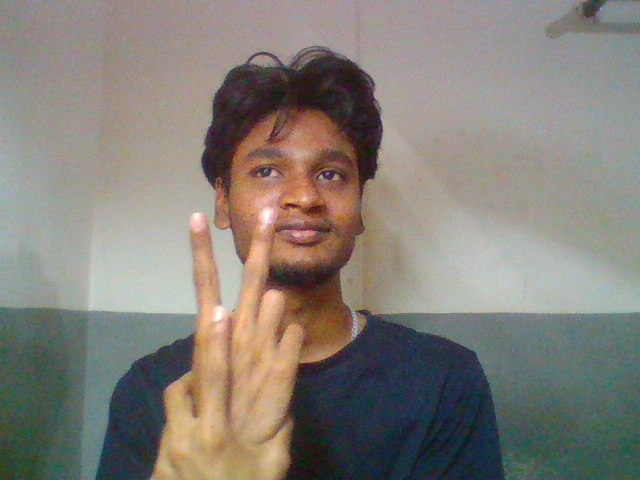Y: (160, 191, 336, 480)
